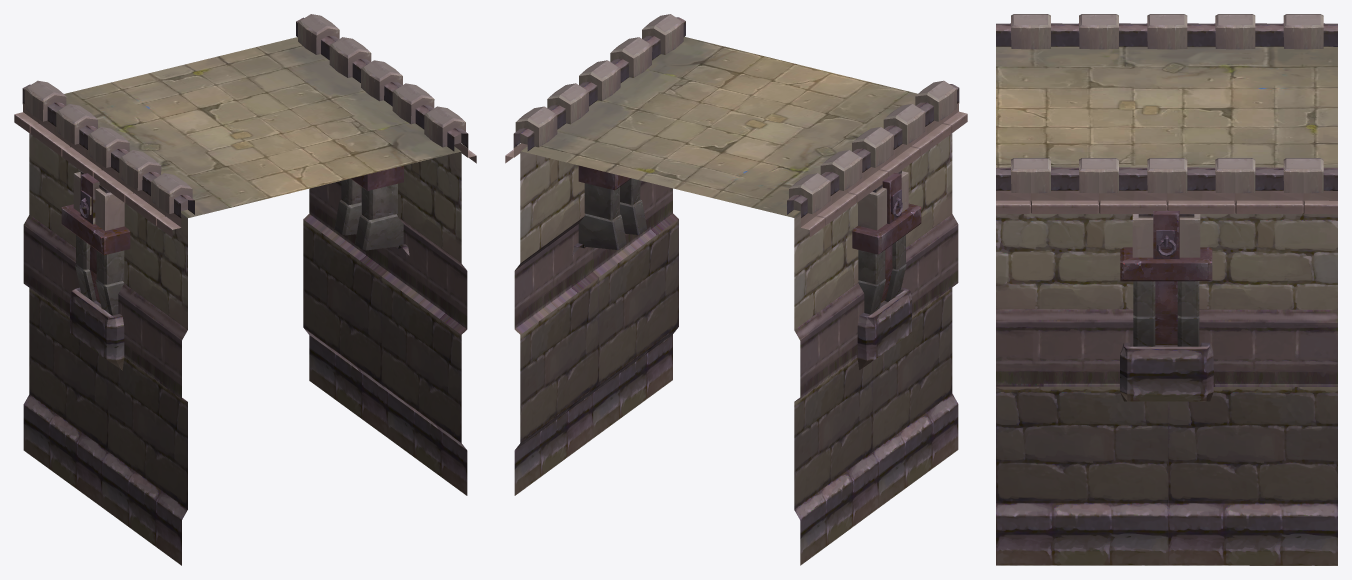
The model's file is pingtai10_01.FBX.
The picture shows the model from 3 angles, left to right: view 1: azimuth 30°, elevation 25°; view 2: azimuth 150°, elevation 25°; view 3: azimuth 270°, elevation 25°; orthographic projection. The views are drawn at different scales.
Visible parts, largest first — view 1: pingtai10_01; view 2: pingtai10_01; view 3: pingtai10_01.
Part boxes in pixels (bbox=[...]): pingtai10_01: bbox=[14, 14, 476, 565]; pingtai10_01: bbox=[505, 14, 967, 565]; pingtai10_01: bbox=[996, 14, 1337, 565].
Size of the model in its own units: 1203 by 1306 by 1002.
Materials: 3 (3 with a texture image).
